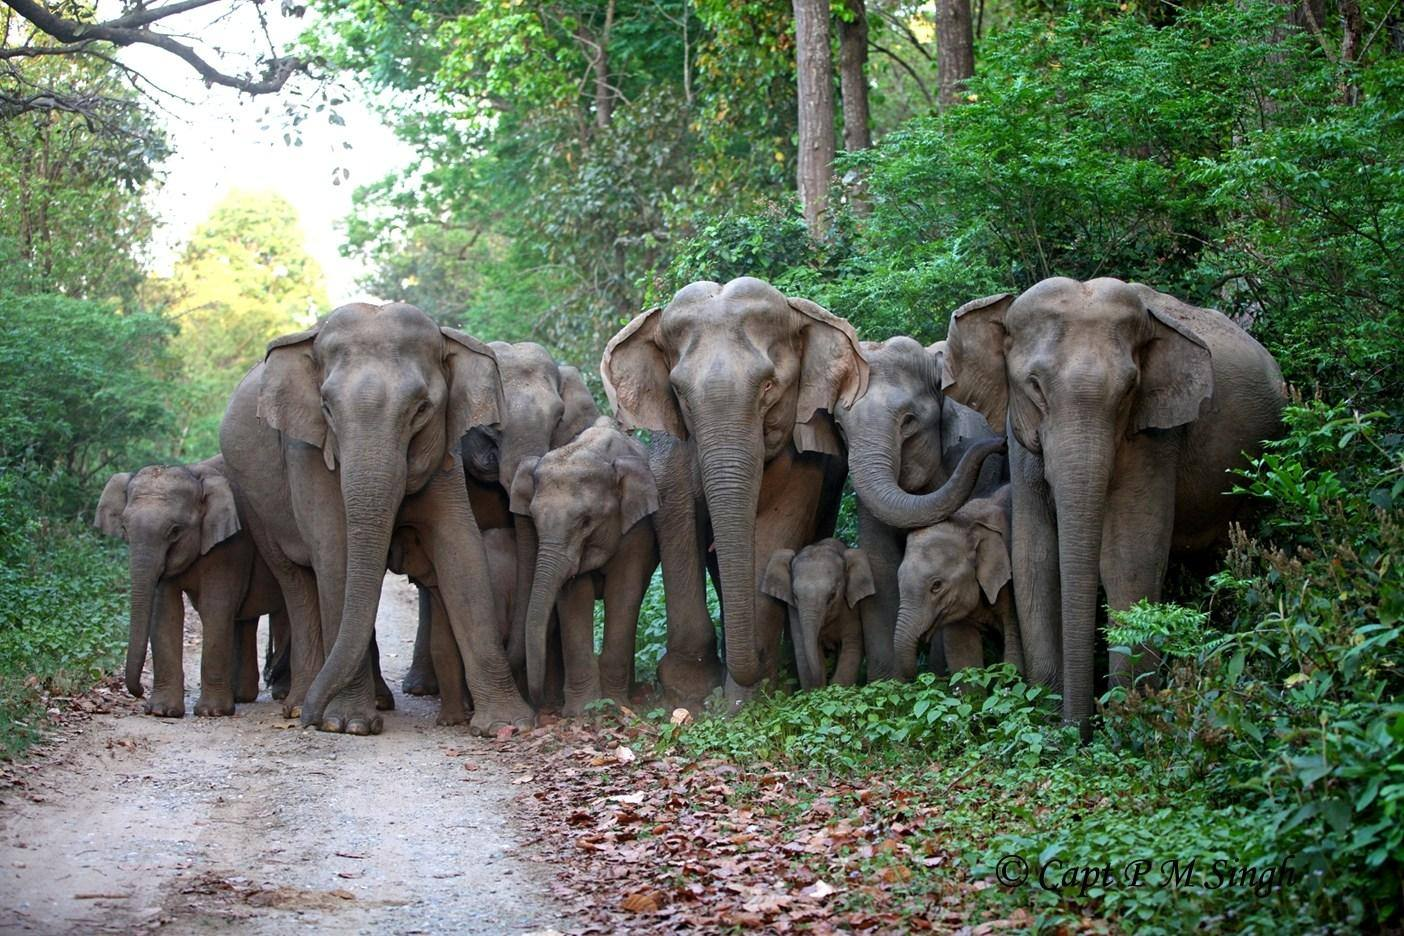Indian Elephant: (918, 272, 1315, 766), (205, 279, 533, 750), (586, 223, 872, 728), (69, 446, 282, 747), (497, 417, 657, 713)
